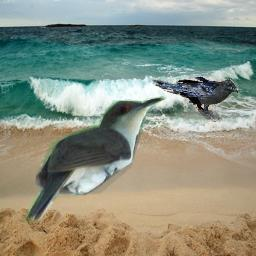Crow: (152, 76, 239, 122)
Cuckoo: (24, 96, 167, 224)
